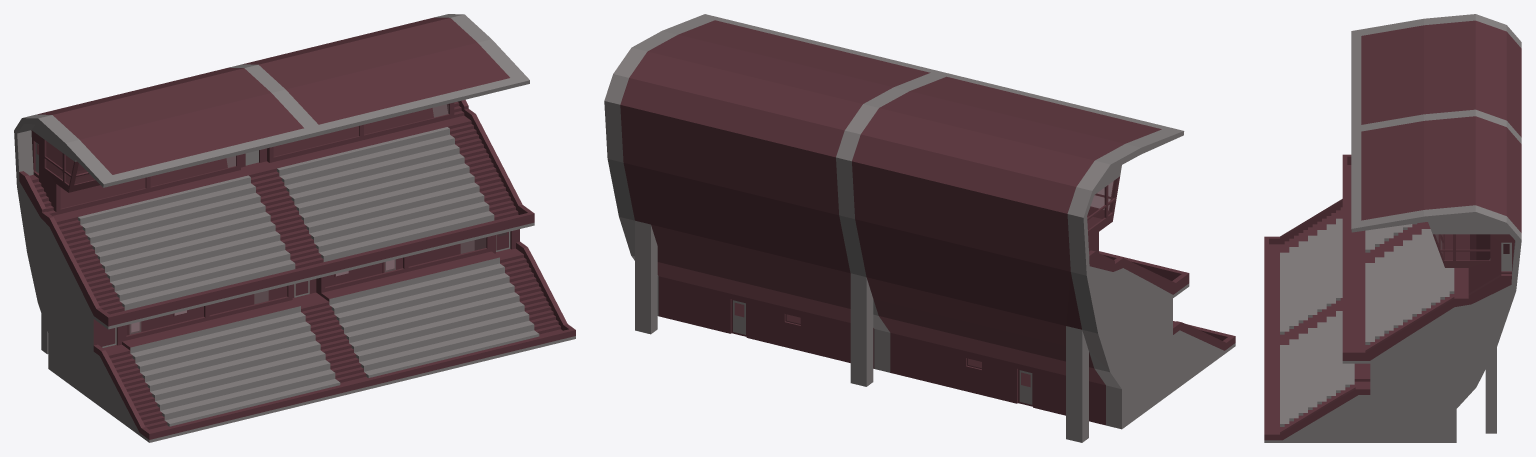
Rendered from tribune-streight-double.fbx.
3 renders of one model, left to right at view 1: azimuth 30°, elevation 25°; view 2: azimuth 150°, elevation 25°; view 3: azimuth 270°, elevation 25°, orthographic. The views are drawn at different scales.
Parts seen in each view (by area): view 1: tribune-streight-double; view 2: tribune-streight-double; view 3: tribune-streight-double.
Part boxes in pixels (<box>): tribune-streight-double: <box>14,14,575,442</box>; tribune-streight-double: <box>604,14,1235,442</box>; tribune-streight-double: <box>1264,14,1521,442</box>.
Bounding box in the file's own units: 30 × 16.34 × 16.5.
